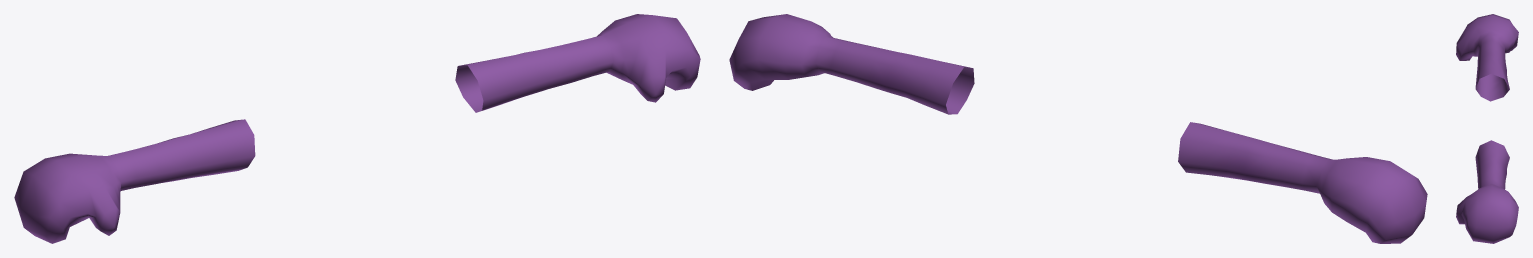
The model's file is Body_Purple_ArmA_1.fbx.
3 renders of one model, left to right at view 1: azimuth 30°, elevation 25°; view 2: azimuth 150°, elevation 25°; view 3: azimuth 270°, elevation 25°, orthographic. The views are drawn at different scales.
Visible parts, largest first — view 1: Body_Purple_ArmA_1; view 2: Body_Purple_ArmA_1; view 3: Body_Purple_ArmA_1.
Part boxes in pixels (<box>): Body_Purple_ArmA_1: <box>14,14,700,243</box>; Body_Purple_ArmA_1: <box>729,14,1427,243</box>; Body_Purple_ArmA_1: <box>1456,14,1518,243</box>.
Bounding box in the file's own units: 130 × 13.15 × 17.22.
